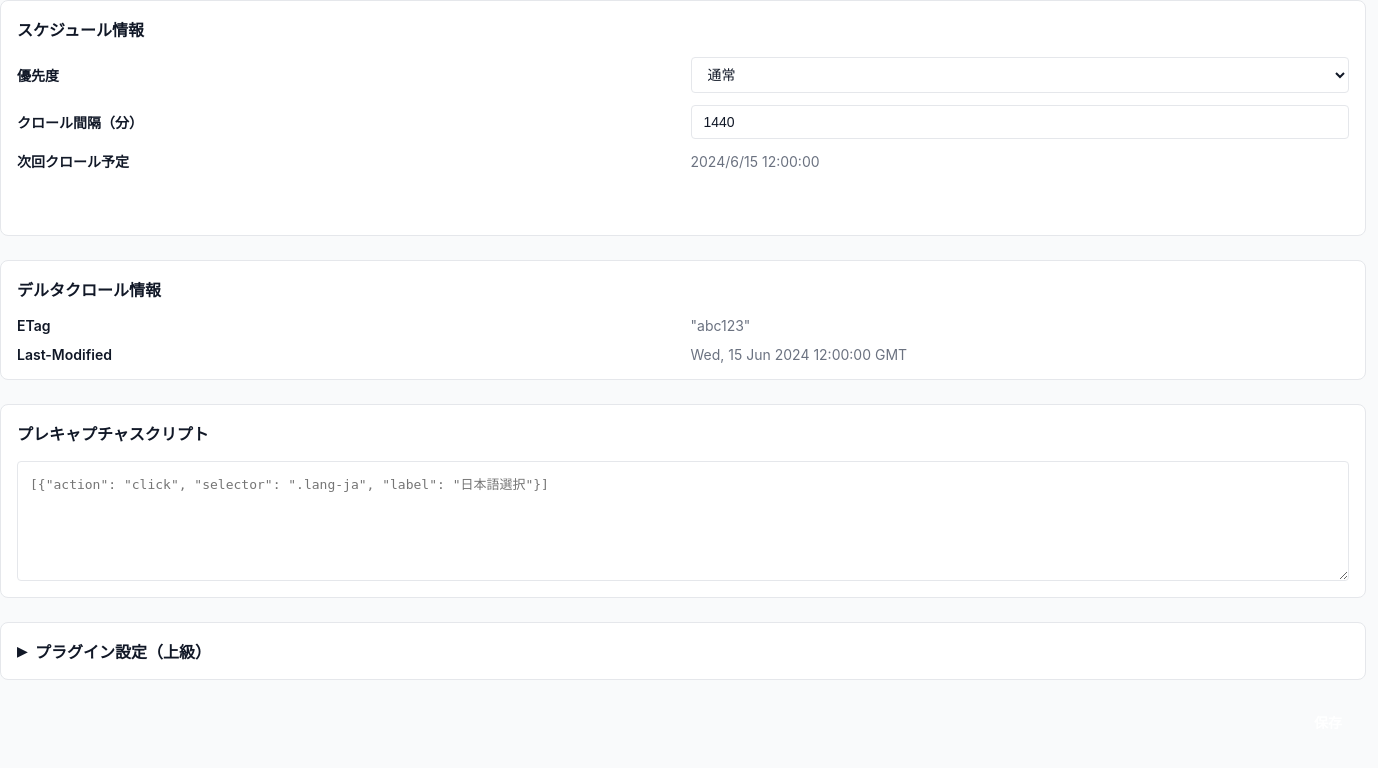
Scenario: ScheduleTab › expands plugin settings on click and shows all plugins with toggles
Click the button "▶ プラグイン設定（上級）".
click(114, 651)  # box [17,639,211,663]
(page scrolled)
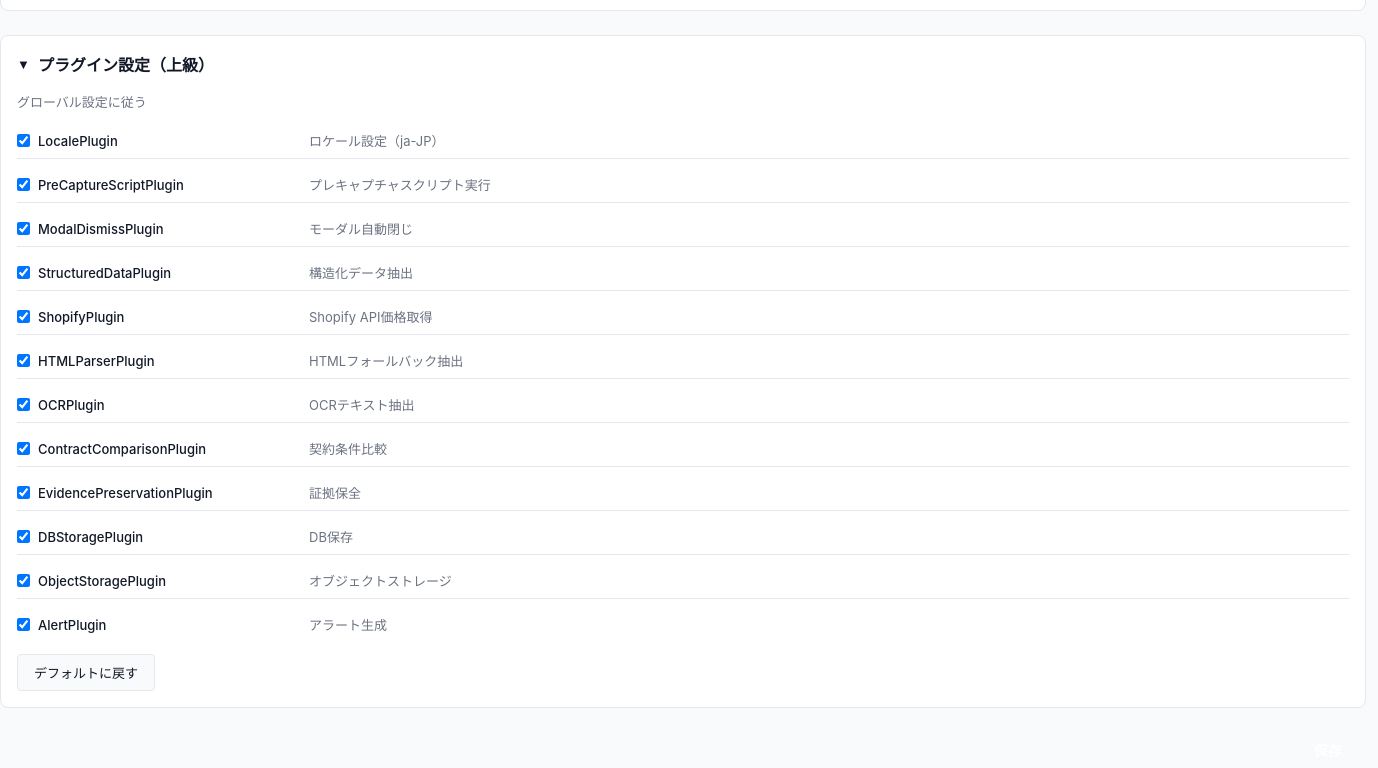
expect the element with test id "plugin-settings" is shown: met
expect the text "LocalePlugin" is shown: met, box [38,132,118,148]
expect the text "AlertPlugin" is shown: met, box [38,616,106,632]
